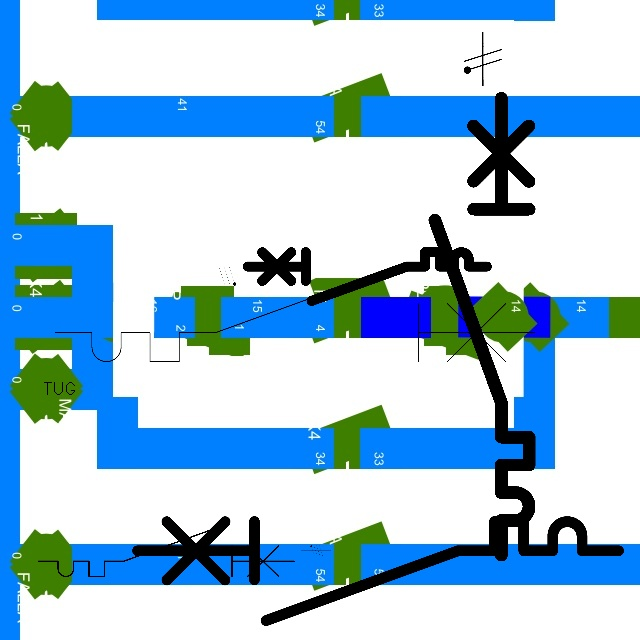interruptor_termomagnetico: (125, 509, 631, 633), (43, 251, 546, 374), (423, 86, 541, 567), (32, 518, 300, 583), (241, 246, 492, 307)
